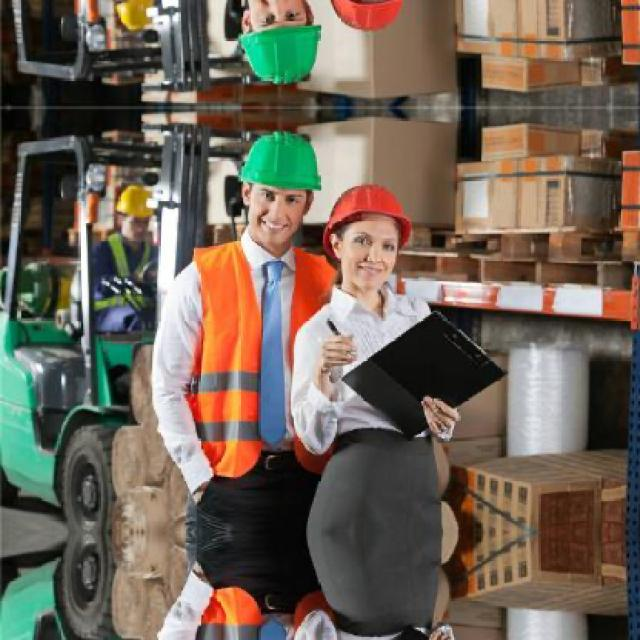Reflective-Jacket: (174, 232, 337, 488), (82, 235, 165, 351)
Safety-Helmet: (222, 125, 329, 208), (317, 175, 423, 248), (110, 180, 164, 226)
